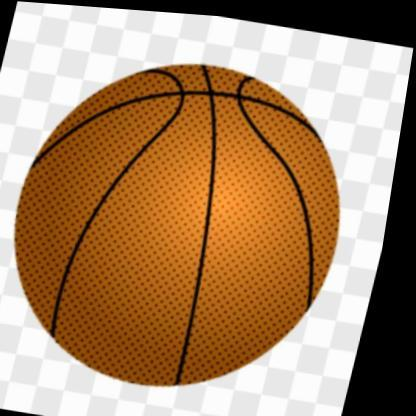basketball: (0, 36, 381, 407)
